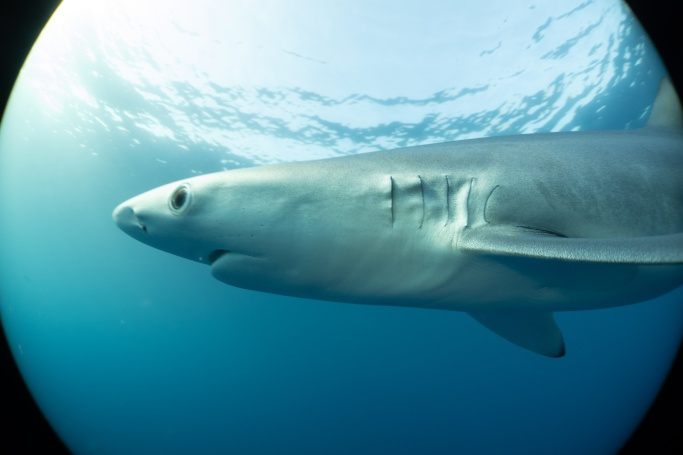Azul: (85, 65, 683, 355)
